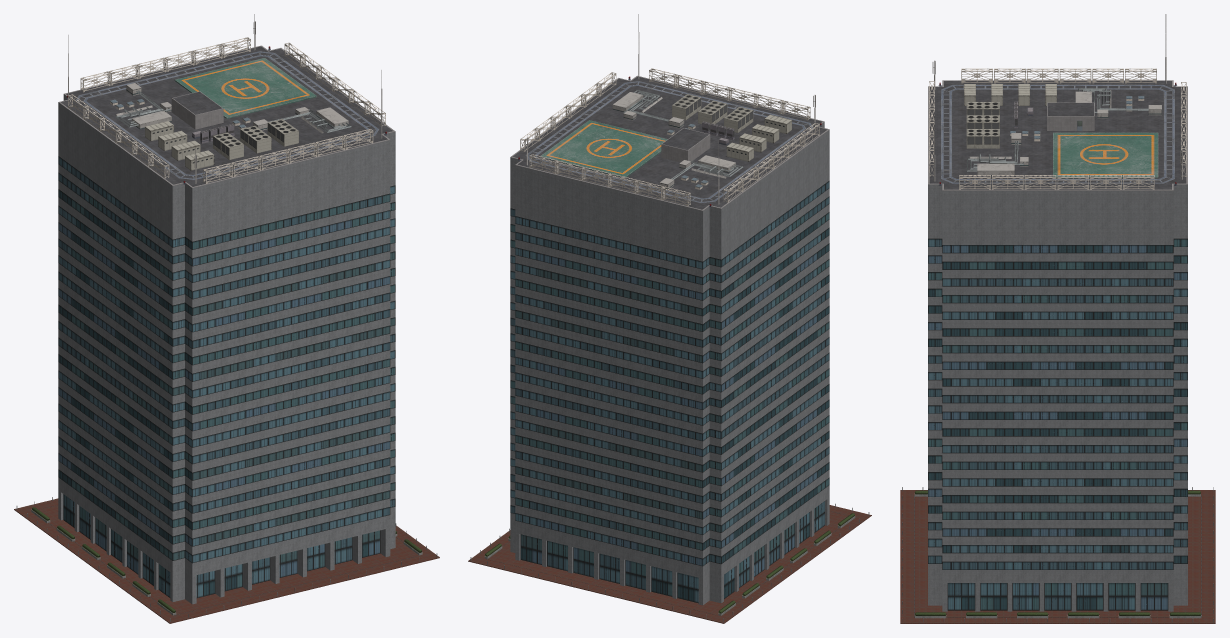
The model's file is jctlowBld50_Ab.fbx.
The picture shows the model from 3 angles, left to right: view 1: azimuth 30°, elevation 25°; view 2: azimuth 150°, elevation 25°; view 3: azimuth 270°, elevation 25°; orthographic projection. The views are drawn at different scales.
Visible parts, largest first — view 1: jctlowBld50_Ab; view 2: jctlowBld50_Ab; view 3: jctlowBld50_Ab.
Part boxes in pixels (x1,y1,x2,y2): jctlowBld50_Ab: (14, 14, 439, 623); jctlowBld50_Ab: (468, 14, 871, 623); jctlowBld50_Ab: (900, 14, 1215, 623).
Size of the model in its own units: 6000 by 10318 by 6000.
Materials: 10 (10 with a texture image).
